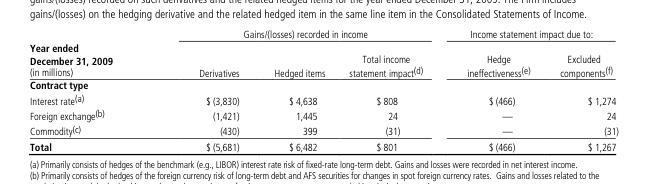table: (28, 29, 617, 152)
table column: (28, 29, 155, 152), (336, 29, 444, 152), (155, 29, 256, 152), (444, 29, 544, 152), (256, 29, 336, 152), (544, 29, 617, 152)
table column header: (28, 29, 617, 78)
table projected row header: (28, 78, 617, 92)
table row: (28, 46, 617, 78), (28, 29, 617, 46), (28, 122, 617, 139), (28, 92, 617, 107), (28, 107, 617, 122), (28, 78, 617, 92), (28, 139, 617, 152)
table spanning cell: (28, 29, 155, 78), (155, 29, 444, 46), (444, 29, 617, 46)
